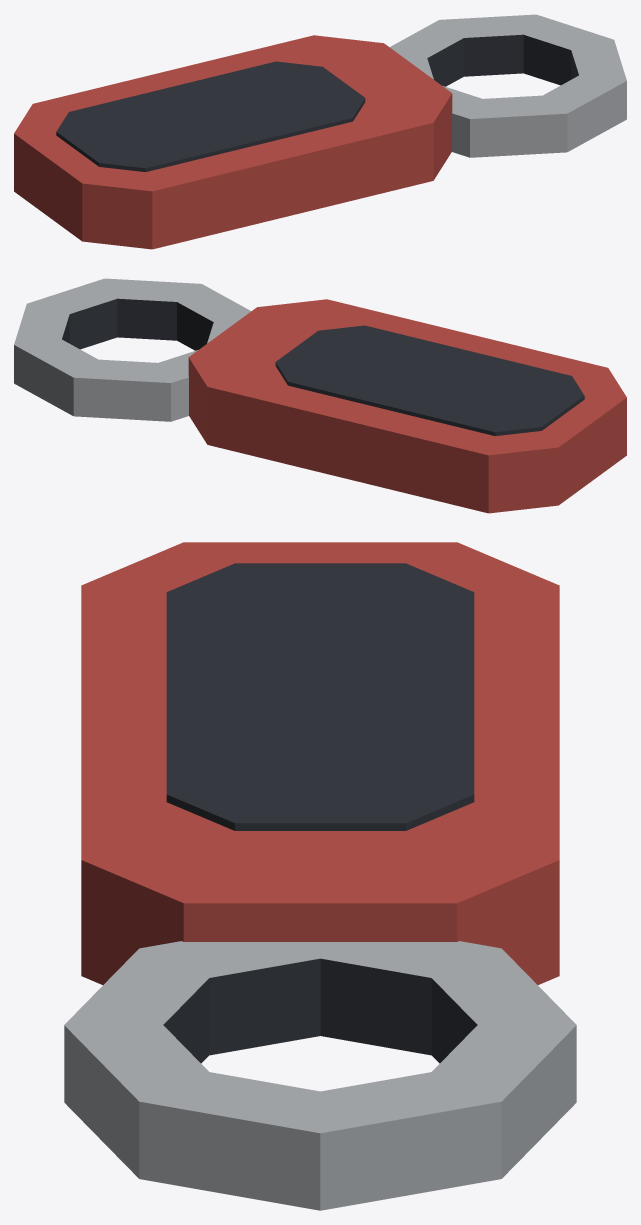
Rendered from keychain.glb.
The picture shows the model from 3 angles, top to bottom: view 1: azimuth 30°, elevation 25°; view 2: azimuth 150°, elevation 25°; view 3: azimuth 270°, elevation 25°; orthographic projection. The views are drawn at different scales.
Visible parts, largest first — view 1: keychain; view 2: keychain; view 3: keychain.
Part boxes in pixels (x1,y1,x2,y2): keychain: [14, 14, 626, 249]; keychain: [14, 278, 626, 513]; keychain: [64, 542, 576, 1210].
Size of the model in its own units: 0.07 by 0.00732 by 0.0275.
